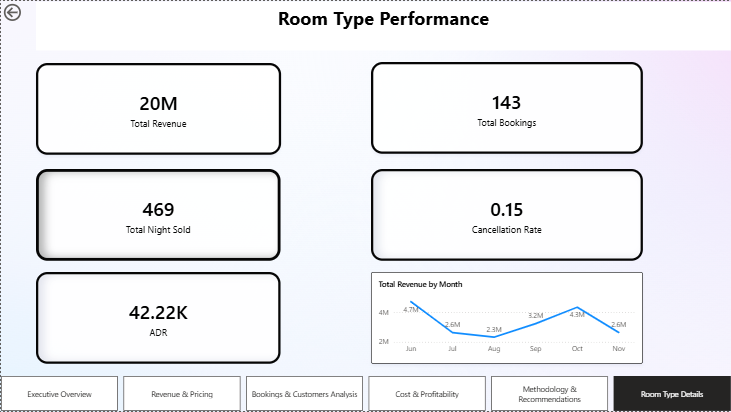

What the dashboard file says about the page in this screenshot:
{"tool":"powerbi","page":{"name":"Room Type Details","canvas":[1280,720],"ordinal":5},"visuals":[{"type":"actionButton","box":[0,0,100,40],"z":0},{"type":"card","fields":{"Values":["Date.Total Revenue"]},"box":[60.8,108.1,429.7,160.8],"z":1000},{"type":"card","fields":{"Values":["Date.Total Night Sold"]},"box":[61.5,293.9,428.9,160.6],"z":2000},{"type":"card","fields":{"Values":["Date.ADR"]},"box":[61.5,475.1,428.9,160.6],"z":3000},{"type":"card","fields":{"Values":["Date.Total Bookings"]},"box":[649.4,107.7,476.8,160.6],"z":4000},{"type":"card","fields":{"Values":["Date.Cancellation Rate"]},"box":[649.4,293.9,476.8,160.6],"z":5000},{"type":"lineChart","fields":{"Category":["Date.Month"],"Y":["Date.Total Revenue"]},"box":[649.4,475.1,476.8,160.6],"z":6000},{"type":"textbox","box":[60.8,1.4,1218.9,85.1],"z":7000},{"type":"pageNavigator","box":[0,657.9,1280,61.5],"z":8000}]}

Visuals, with their boxes in screenshot pixels (x1, y1, x2, y2), scaled from the page's 1280x720 canvas onto the 731x412 screenshot:
actionButton: 0, 0, 57, 23
card - Date.Total Revenue: 35, 62, 280, 154
card - Date.Total Night Sold: 35, 168, 280, 260
card - Date.ADR: 35, 272, 280, 364
card - Date.Total Bookings: 371, 62, 643, 154
card - Date.Cancellation Rate: 371, 168, 643, 260
lineChart - Date.Month x Date.Total Revenue: 371, 272, 643, 364
textbox: 35, 1, 730, 49
pageNavigator: 0, 376, 730, 411
